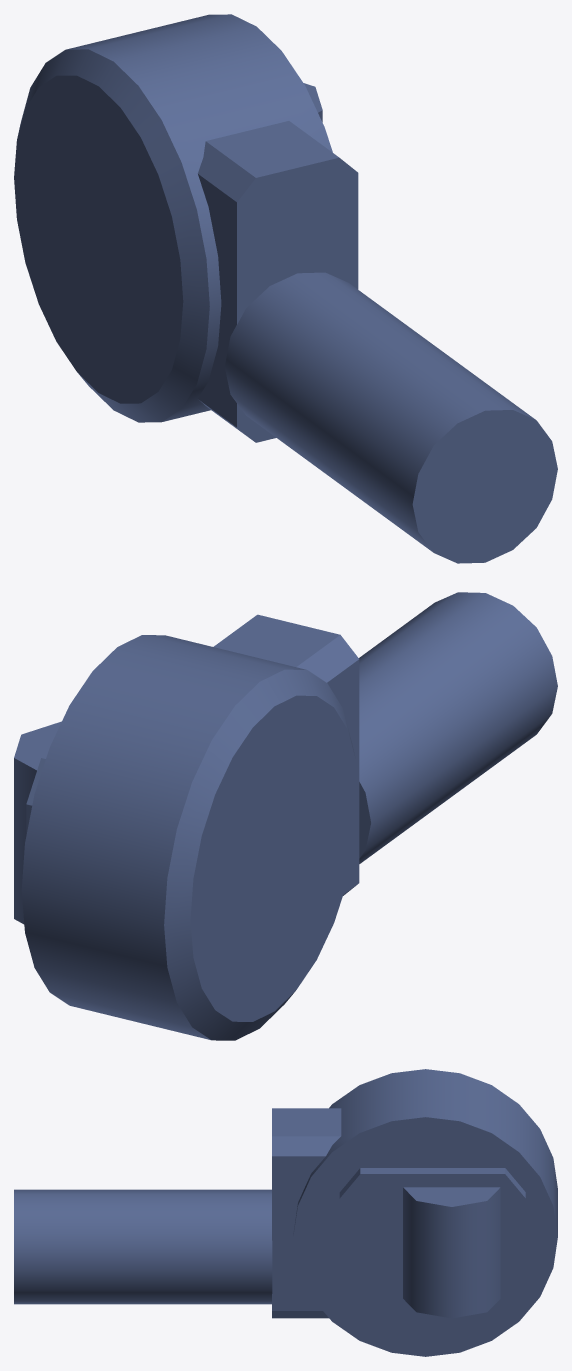
The model's file is Small_mguns_v1_R.FBX.
3 renders of one model, top to bottom at view 1: azimuth 30°, elevation 25°; view 2: azimuth 150°, elevation 25°; view 3: azimuth 270°, elevation 25°, orthographic. The views are drawn at different scales.
Visible parts, largest first — view 1: Small_mguns_v1_R; view 2: Small_mguns_v1_R; view 3: Small_mguns_v1_R.
Part boxes in pixels (left/top/right/bottom): Small_mguns_v1_R: left=14, top=14, right=557, bottom=563; Small_mguns_v1_R: left=14, top=592, right=557, bottom=1040; Small_mguns_v1_R: left=14, top=1069, right=557, bottom=1356.
Size of the model in its own units: 0.6221 by 0.8792 by 1.81.
